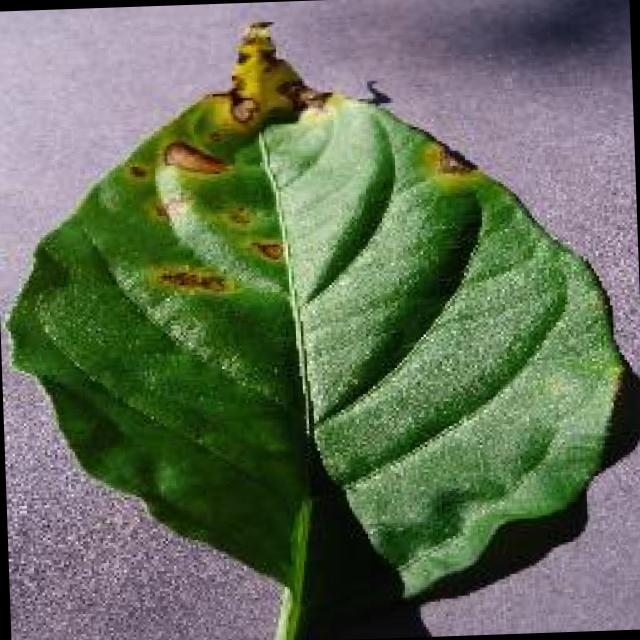Chilli_Bacterial_Spot: (0, 2, 640, 636), (137, 82, 484, 306), (132, 15, 332, 306), (141, 126, 287, 303), (217, 13, 311, 131), (148, 258, 237, 301), (158, 136, 232, 181), (271, 72, 333, 119), (419, 134, 478, 182), (244, 234, 286, 268), (224, 89, 260, 128), (237, 14, 276, 48), (220, 197, 254, 231), (121, 159, 148, 182)
